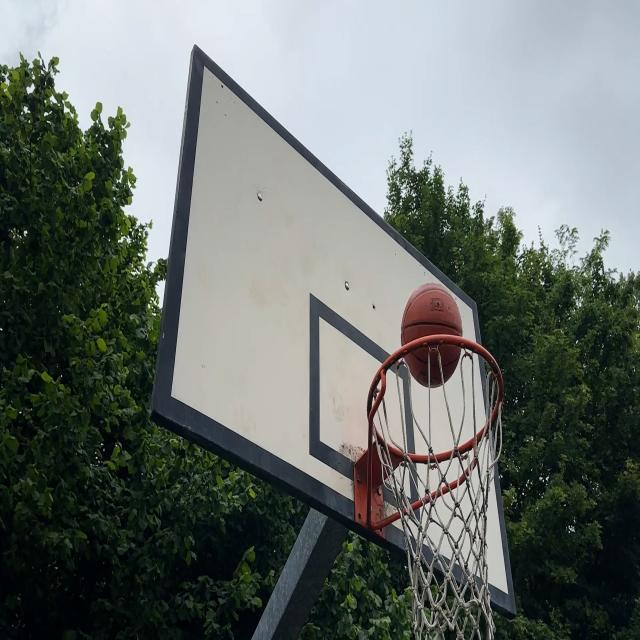rebound_hit: (402, 284, 462, 388)
